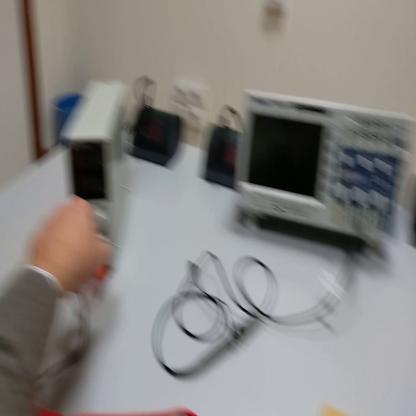hand: (30, 196, 114, 294)
oscilloscope: (240, 87, 415, 272)
oscilloscope probe tip: (176, 322, 270, 385)
power supply: (61, 84, 125, 274)
register: (40, 407, 199, 416)
socket: (133, 102, 185, 172), (200, 125, 240, 196)
working area: (324, 401, 343, 416)
